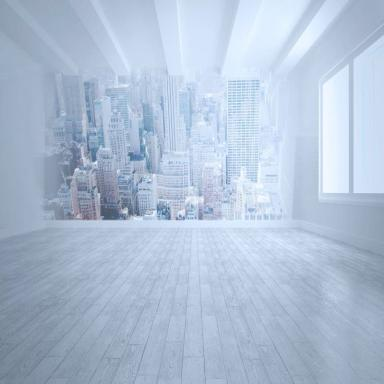glass_panel: (358, 35, 384, 193), (322, 60, 350, 196)
